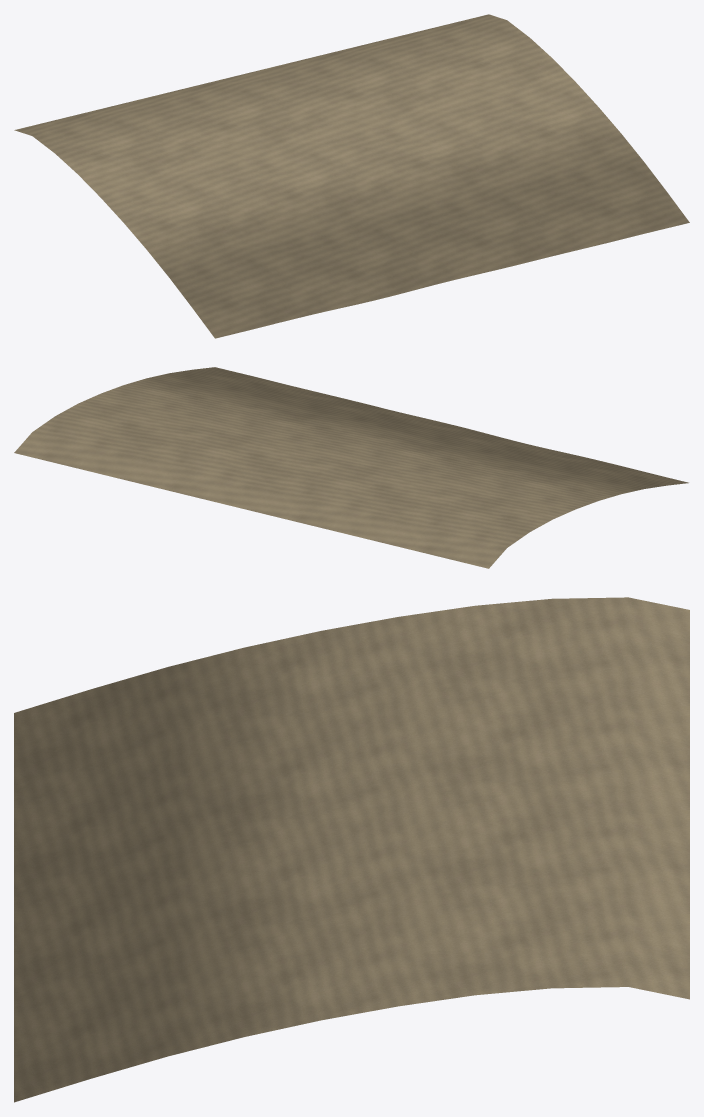
File: beach_sand_straight6_v5_dead.glb
3 renders of one model, top to bottom at view 1: azimuth 30°, elevation 25°; view 2: azimuth 150°, elevation 25°; view 3: azimuth 270°, elevation 25°, orthographic. The views are drawn at different scales.
Parts seen in each view (by area): view 1: beach_sand_straight6; view 2: beach_sand_straight6; view 3: beach_sand_straight6.
Part boxes in pixels (left/top/right/bottom): beach_sand_straight6: left=14, top=14, right=689, bottom=338; beach_sand_straight6: left=14, top=367, right=688, bottom=568; beach_sand_straight6: left=14, top=597, right=689, bottom=1102.
Size of the model in its own units: 6 by 0.8494 by 4.4.
Materials: 1 (1 with a texture image).
